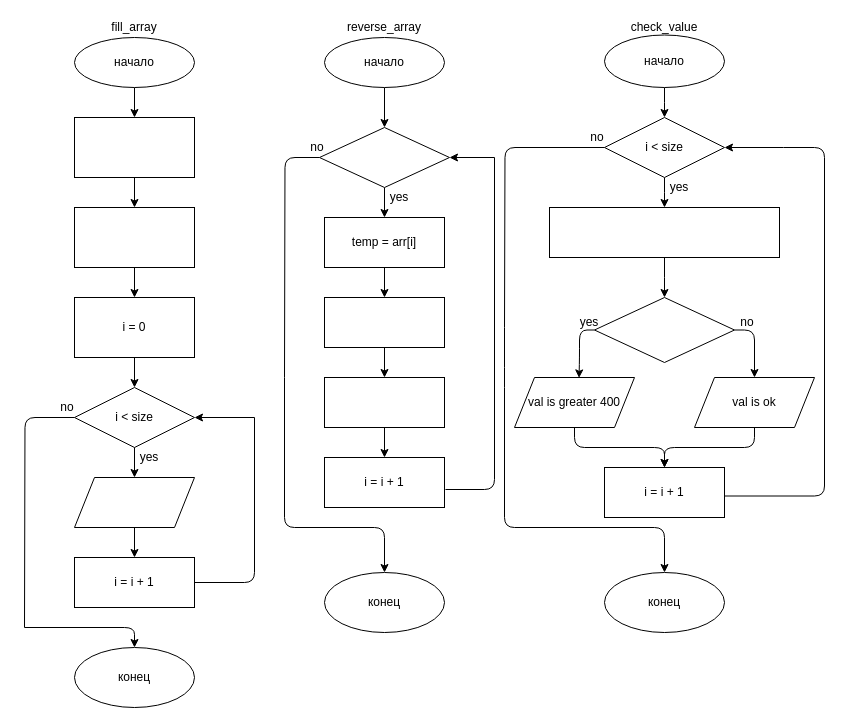
The diagram is 843 pixels wide and 725 high, and some of its shapes have lost their labels. The shapes that lost their labels are listed below. From the top down, each one's centre as x and y in pixels, then its label:
pixel 134 147: size = 11
pixel 384 157: i < size - i - 1
pixel 134 237: arr[size]
pixel 664 232: val = sqrt(fabs(arr[i])) + 5 * pow(arr[i], 3)
pixel 384 322: arr[i] = arr[size - i - 1]
pixel 664 329: val > 400
pixel 384 402: arr[size - i - 1] = temp
pixel 134 502: arr[i]
